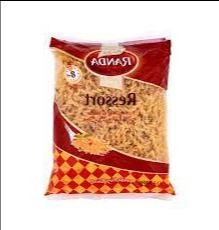Ressort: (44, 35, 172, 198)
